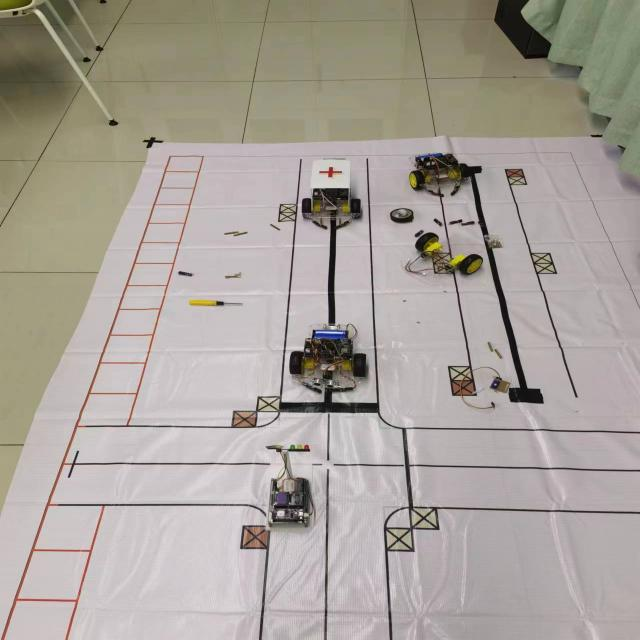RedCross: (316, 164, 345, 180)
